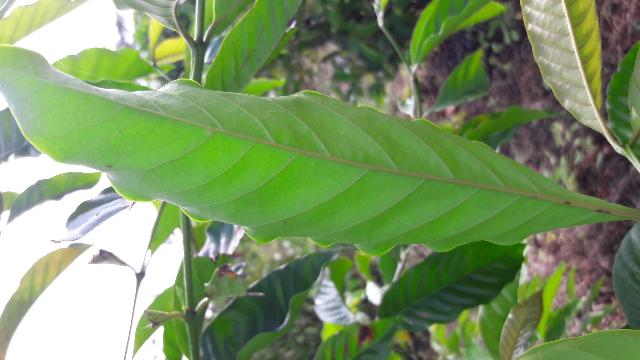healthy: (0, 43, 623, 255)
